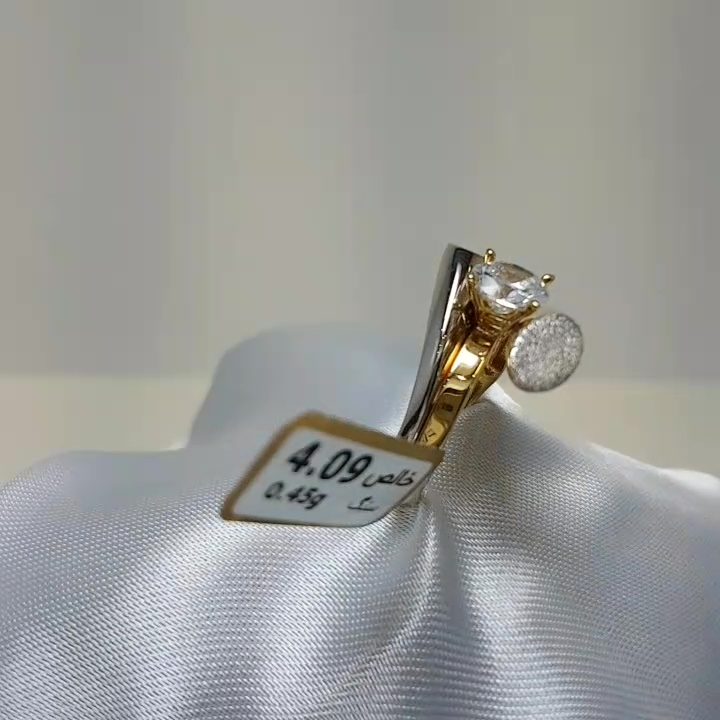Ring 7: (364, 213, 602, 506)
